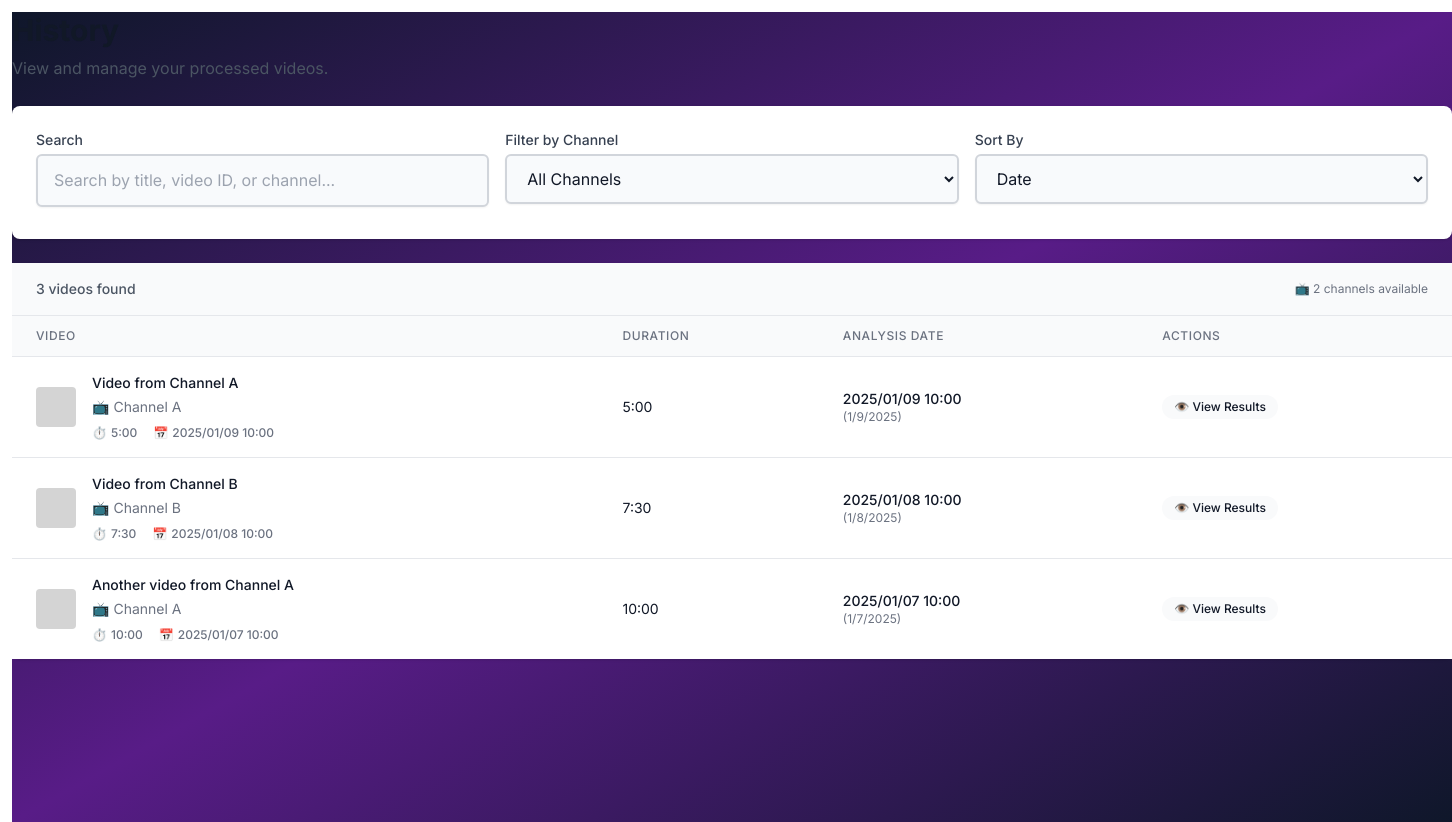
Scenario: HistoryPage Channel Filter Feature › filters videos by selected channel
Expected: the text "3 videos found" is shown, [36,279,136,299]
# Filter by Channel A
Select "📺 Channel A" in the dropdown labelled "Filter by Channel" at (732, 179), box [505,154,959,204]
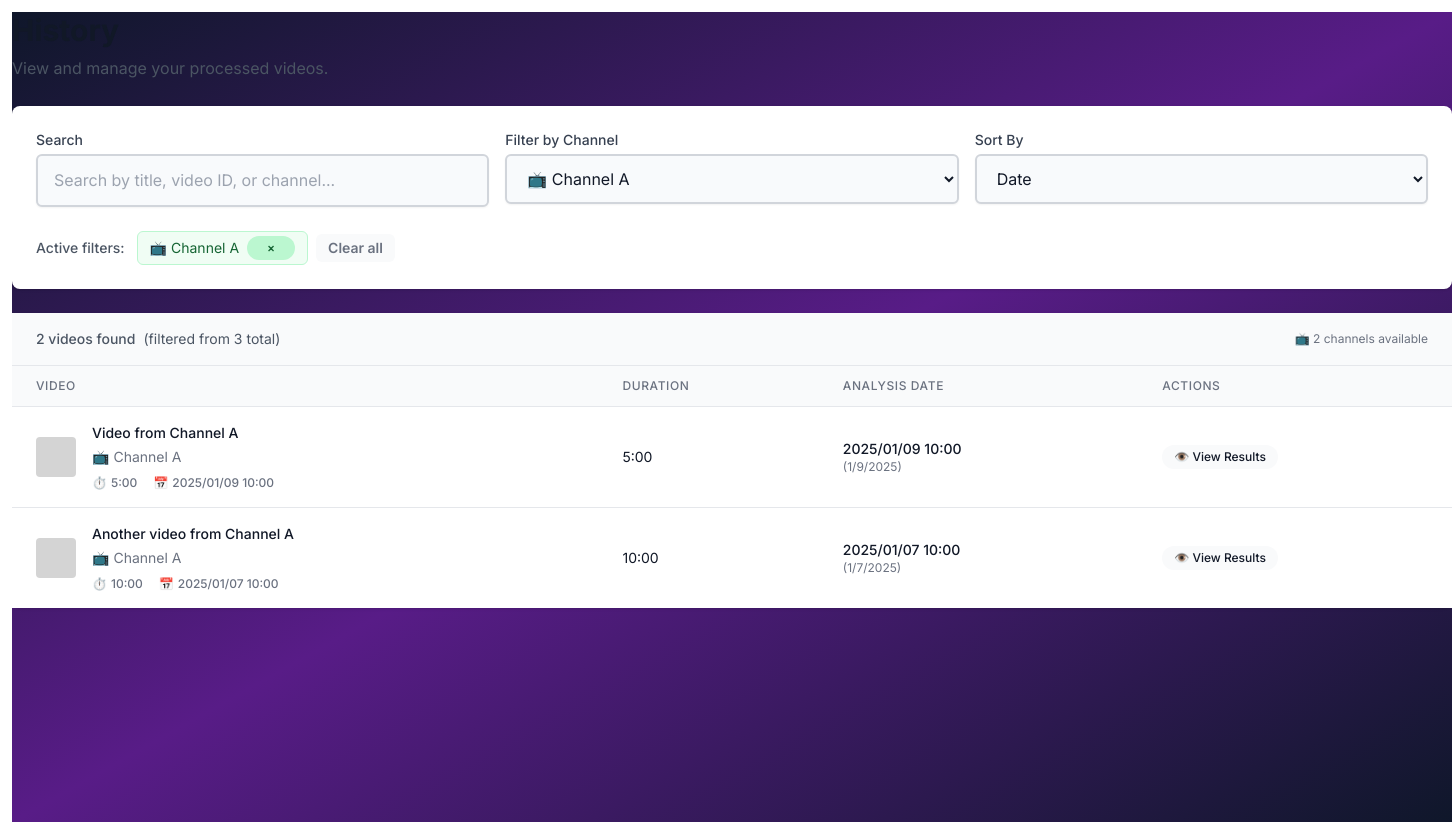
Expected: the text "2 videos found" is shown, [36,329,136,349]
Expected: the text "(filtered from 3 total)" is shown, [144,329,280,349]
